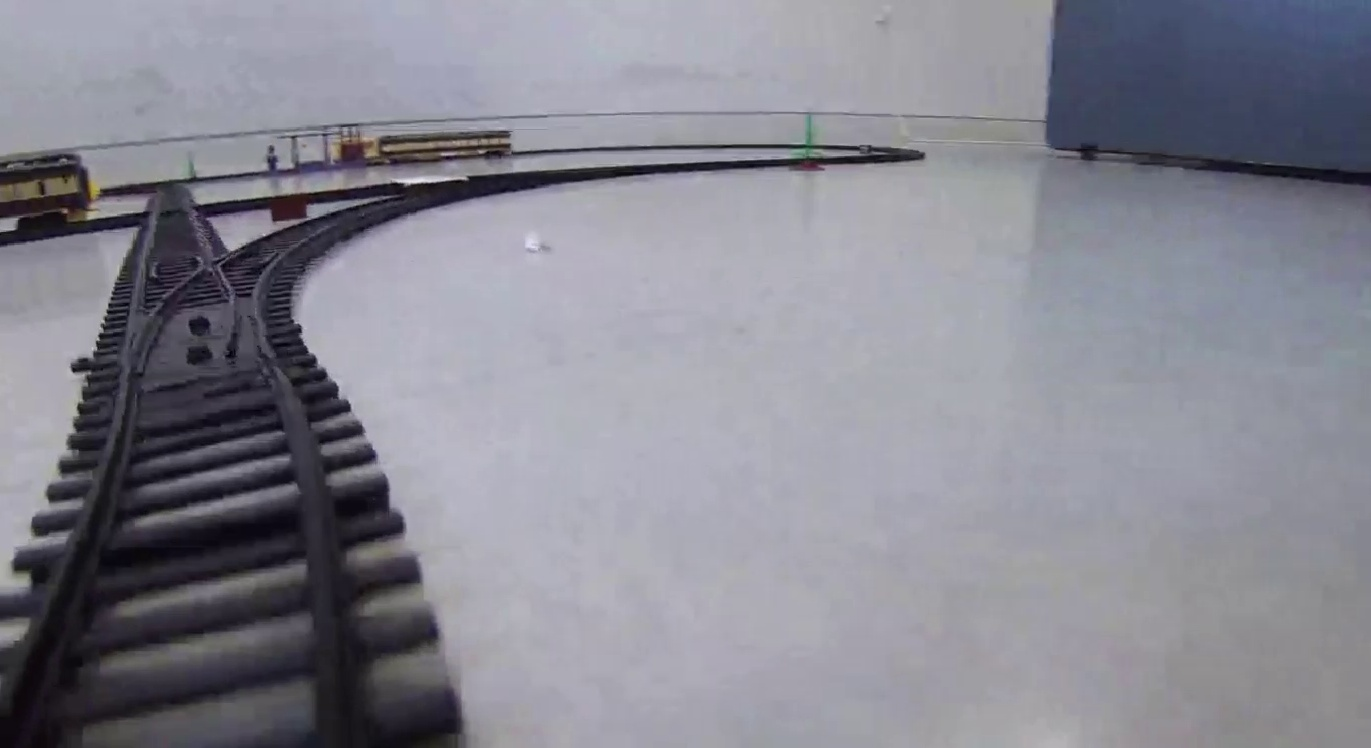box: (272, 195, 306, 217)
